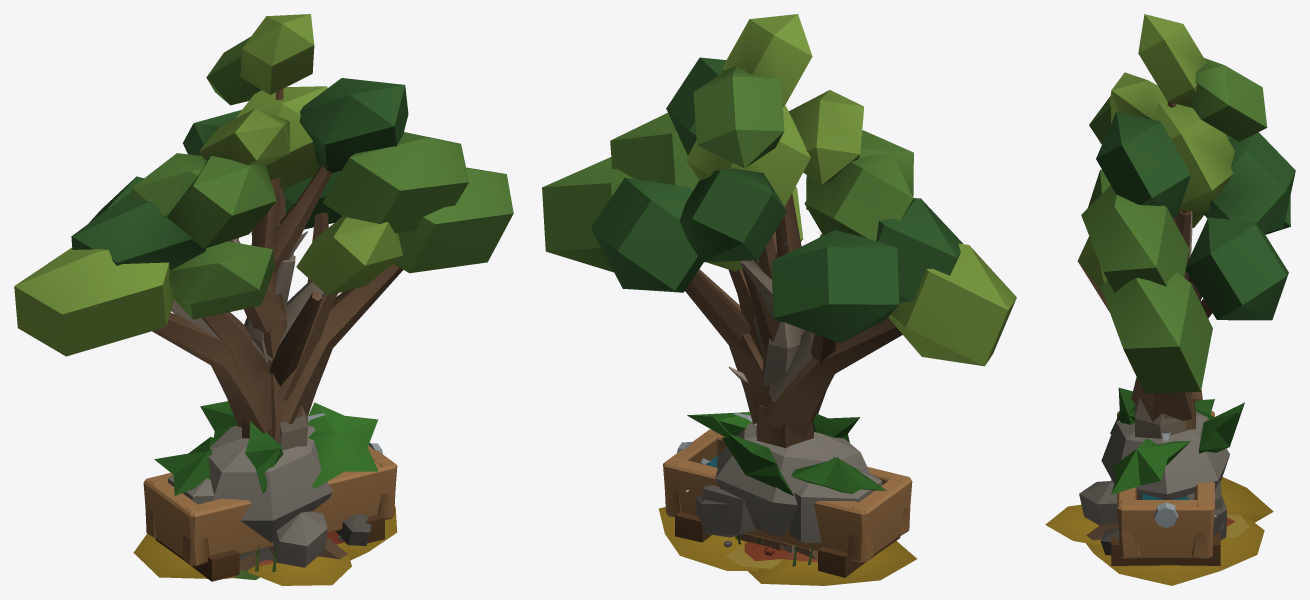
Rendered from props.glb.
3 renders of one model, left to right at view 1: azimuth 30°, elevation 25°; view 2: azimuth 150°, elevation 25°; view 3: azimuth 270°, elevation 25°, orthographic. The views are drawn at different scales.
Parts seen in each view (by area): view 1: SM_prop_eucalyptus_wide, SM_prop_eucalyptus, SM_prop_eucalyptus_tall, SM_prop_water_trough, SM_prop_rock, SM_prop_bush, SM_prop_scrub_patch, SM_prop_rock_cluster, SM_prop_dead_tree; view 2: SM_prop_eucalyptus_wide, SM_prop_eucalyptus_tall, SM_prop_eucalyptus, SM_prop_water_trough, SM_prop_rock, SM_prop_bush, SM_prop_scrub_patch, SM_prop_dead_tree, SM_prop_rock_cluster, SM_prop_dirt_clods, SM_prop_grass_carpet; view 3: SM_prop_eucalyptus_wide, SM_prop_eucalyptus, SM_prop_eucalyptus_tall, SM_prop_water_trough, SM_prop_scrub_patch, SM_prop_rock, SM_prop_bush, SM_prop_rock_cluster, SM_prop_dead_tree, SM_tool_watering_can, SM_prop_grass_carpet.
Boxes of the visible parts, x1,y1,x2,y2 form: SM_prop_eucalyptus_wide: (14,167,513,561); SM_prop_eucalyptus: (71,86,468,571); SM_prop_eucalyptus_tall: (129,14,408,361); SM_prop_water_trough: (143,445,397,581); SM_prop_rock: (208,425,332,561); SM_prop_bush: (154,401,378,495); SM_prop_scrub_patch: (133,506,397,585); SM_prop_rock_cluster: (168,475,371,567); SM_prop_dead_tree: (171,222,325,450); SM_prop_eucalyptus_wide: (542,157,1016,550); SM_prop_eucalyptus_tall: (666,14,914,559); SM_prop_eucalyptus: (610,105,962,544); SM_prop_water_trough: (663,429,912,577); SM_prop_rock: (695,423,869,537); SM_prop_bush: (687,412,886,495); SM_prop_scrub_patch: (659,507,916,585); SM_prop_dead_tree: (728,241,838,553); SM_prop_rock_cluster: (700,470,882,542); SM_prop_dirt_clods: (724,540,817,562); SM_prop_grass_carpet: (725,535,814,568); SM_prop_eucalyptus_wide: (1077,134,1290,540); SM_prop_eucalyptus: (1081,96,1295,430); SM_prop_eucalyptus_tall: (1096,14,1267,223); SM_prop_water_trough: (1111,411,1220,565); SM_prop_scrub_patch: (1045,477,1273,585); SM_prop_rock: (1101,411,1229,539); SM_prop_bush: (1110,387,1244,494); SM_prop_rock_cluster: (1079,480,1224,555); SM_prop_dead_tree: (1135,211,1192,438); SM_tool_watering_can: (1153,502,1178,527); SM_prop_grass_carpet: (1226,514,1248,537).
Size of the model in its own units: 2.79 by 2.89 by 1.29.
